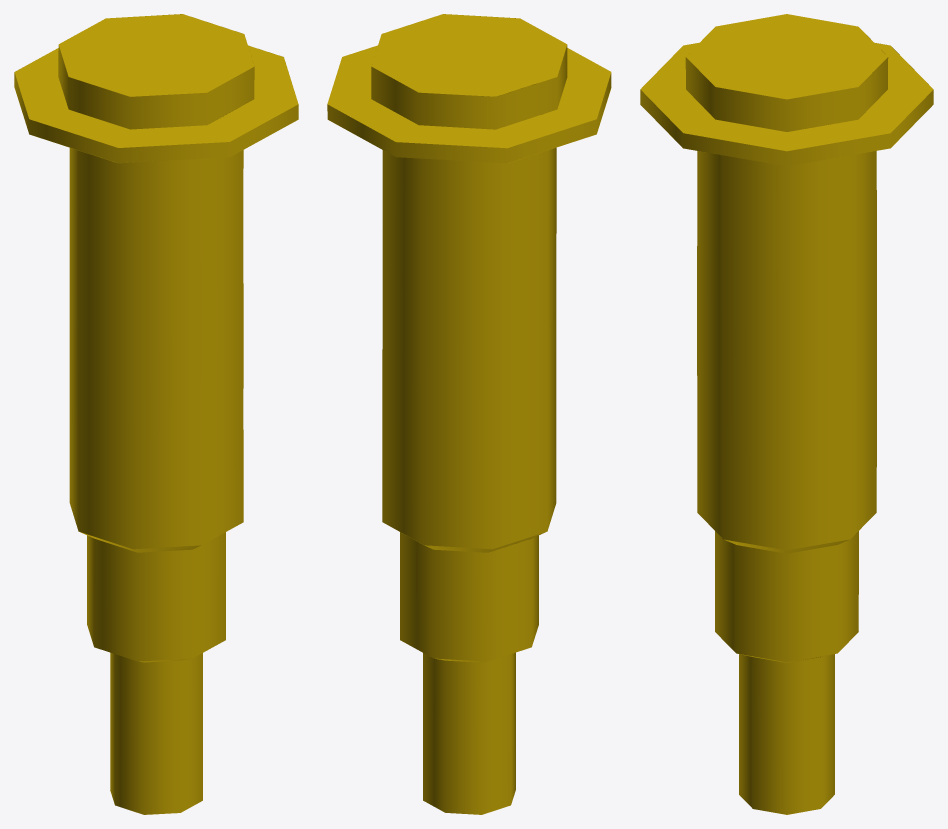
The model's file is original-5.obj.
The picture shows the model from 3 angles, left to right: view 1: azimuth 30°, elevation 25°; view 2: azimuth 150°, elevation 25°; view 3: azimuth 270°, elevation 25°; orthographic projection.
Visible parts, largest first — view 1: #ID40; view 2: #ID40; view 3: #ID40.
Part boxes in pixels (x1,y1,x2,y2): #ID40: (14, 14, 298, 814); #ID40: (327, 14, 611, 814); #ID40: (640, 14, 933, 814).
Size of the model in its own units: 0.2447 by 0.6791 by 0.2448.
